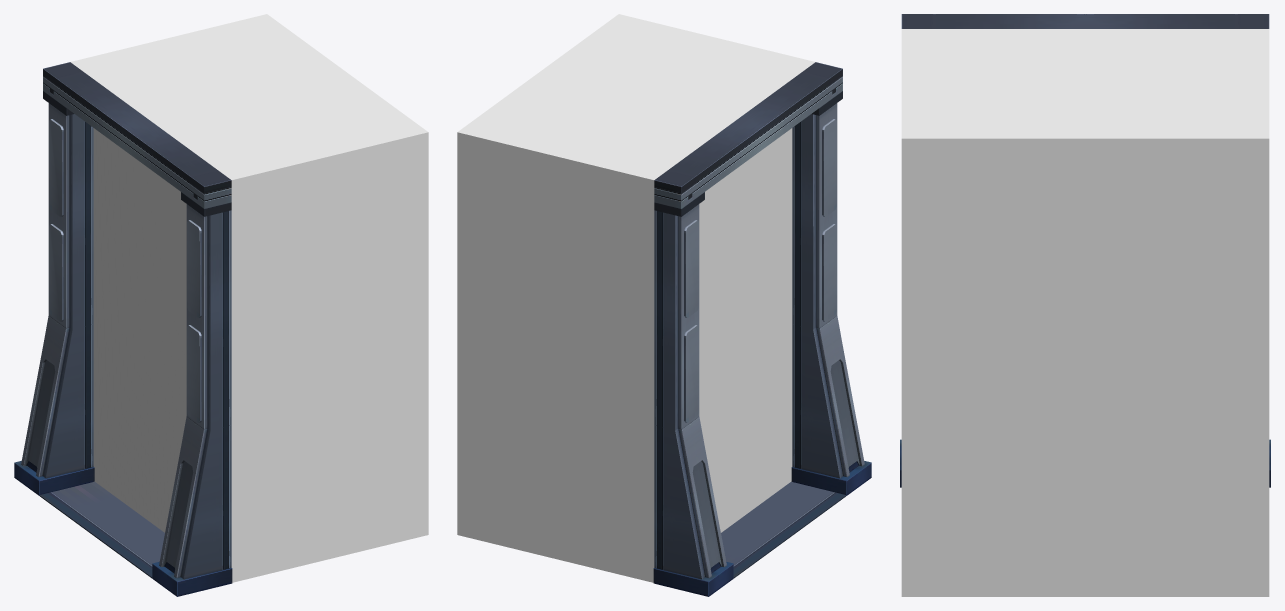
File: my_carrier_01_wallcc_02.glb
3 renders of one model, left to right at view 1: azimuth 30°, elevation 25°; view 2: azimuth 150°, elevation 25°; view 3: azimuth 270°, elevation 25°, orthographic. The views are drawn at different scales.
Visible parts, largest first — view 1: my_carrier_01_wallcc_02_cover, my_carrier_01_wallcc_02.001, my_carrier_01_wallcc_02_hole; view 2: my_carrier_01_wallcc_02_cover, my_carrier_01_wallcc_02.001, my_carrier_01_wallcc_02_hole; view 3: my_carrier_01_wallcc_02_cover, my_carrier_01_wallcc_02.001.
Part boxes in pixels (<box>): my_carrier_01_wallcc_02_cover: <box>70,14,428,582</box>; my_carrier_01_wallcc_02.001: <box>14,62,232,596</box>; my_carrier_01_wallcc_02_hole: <box>93,128,186,532</box>; my_carrier_01_wallcc_02_cover: <box>457,14,815,582</box>; my_carrier_01_wallcc_02.001: <box>653,62,871,596</box>; my_carrier_01_wallcc_02_hole: <box>699,128,792,532</box>; my_carrier_01_wallcc_02_cover: <box>901,29,1269,596</box>; my_carrier_01_wallcc_02.001: <box>900,14,1270,487</box>.
Size of the model in its own units: 0.0267 by 0.0408 by 0.0299.
4 materials, 2 textured.
